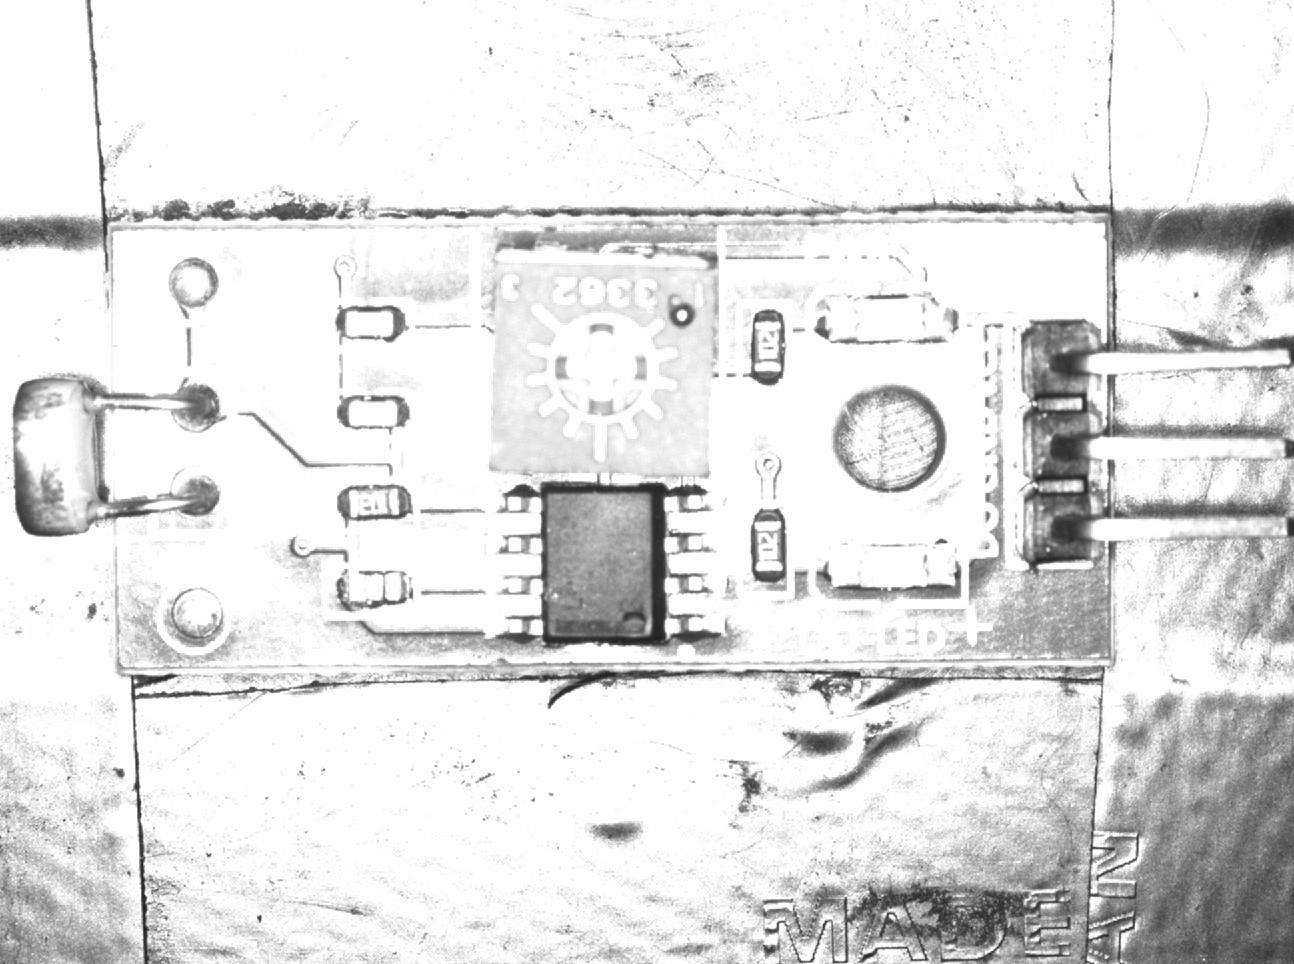miss: (330, 558, 420, 615)
ok: (740, 300, 794, 396), (328, 296, 416, 353), (743, 501, 793, 598), (328, 390, 419, 436), (330, 479, 415, 529)
